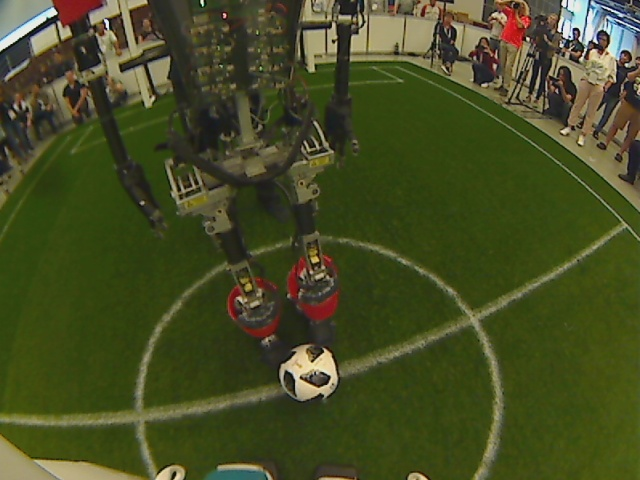ball: (275, 340, 344, 404)
